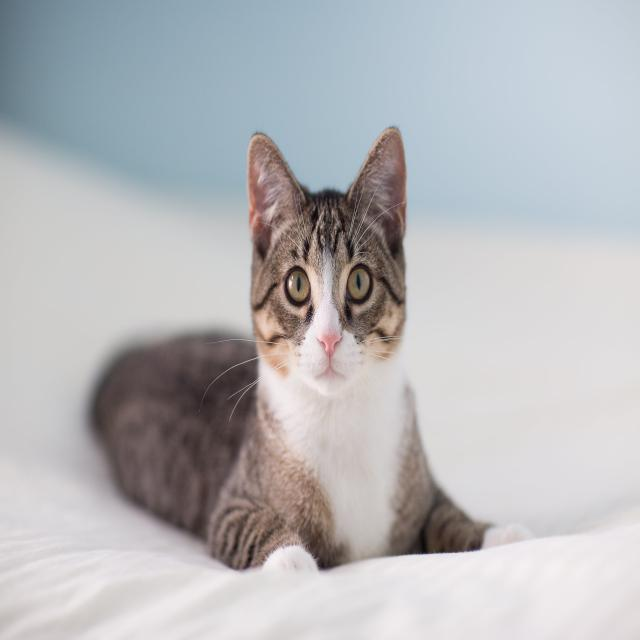cat: (235, 188, 459, 414)
